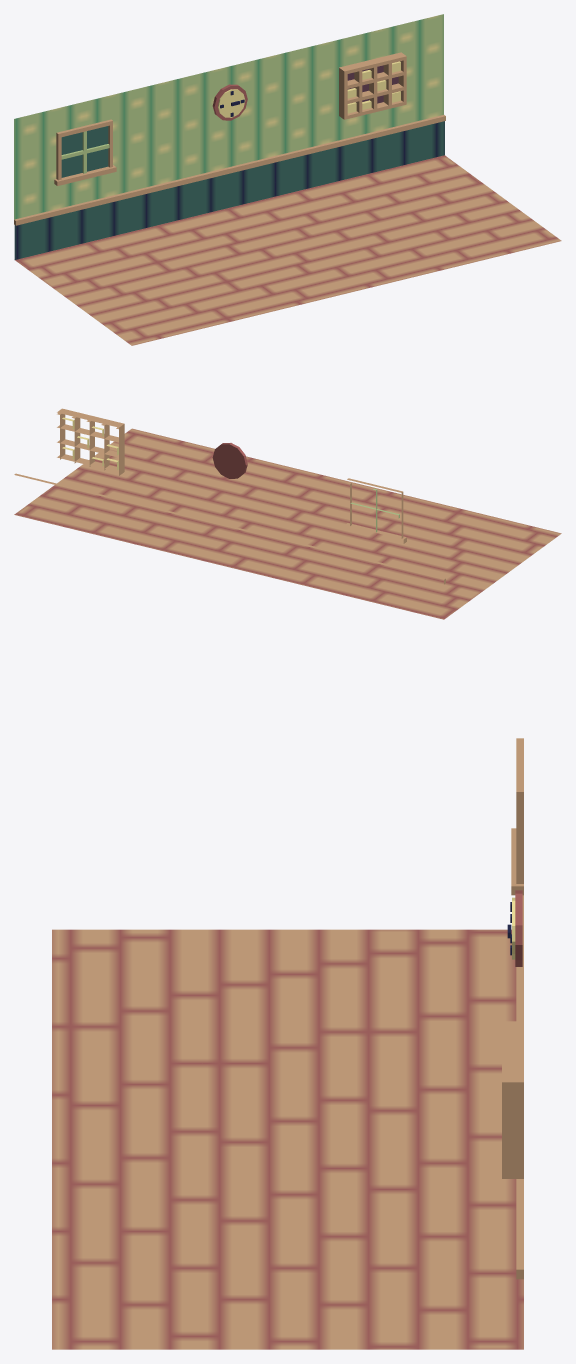
The model's file is room.glb.
The picture shows the model from 3 angles, top to bottom: view 1: azimuth 30°, elevation 25°; view 2: azimuth 150°, elevation 25°; view 3: azimuth 270°, elevation 25°; orthographic projection. The views are drawn at different scales.
Parts seen in each view (by area): view 1: Floor, Paper, Panel, Dado, Pane, PH3, Face, WinBot, Rim; view 2: Floor, Dado, Rim, PH3; view 3: Floor, PV4, PH3, Dado.
Boxes of the visible parts, <box> form: Floor: <box>15,155,561,345</box>; Paper: <box>14,14,443,219</box>; Panel: <box>14,121,444,259</box>; Dado: <box>14,115,445,225</box>; Pane: <box>61,126,108,177</box>; PH3: <box>339,52,406,74</box>; Face: <box>218,89,245,117</box>; WinBot: <box>54,165,116,185</box>; Rim: <box>212,84,247,120</box>; Floor: <box>14,428,561,619</box>; Dado: <box>14,473,445,584</box>; Rim: <box>212,443,247,478</box>; PH3: <box>57,408,124,430</box>; Floor: <box>52,929,523,1349</box>; PV4: <box>502,1085,523,1175</box>; PH3: <box>502,1021,523,1088</box>; Dado: <box>516,895,523,1279</box>.
Bounding box in the file's own units: 16 × 5 × 7.6.
12 materials, 3 textured.
